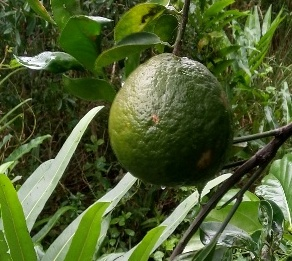Cam: (105, 50, 235, 189)
